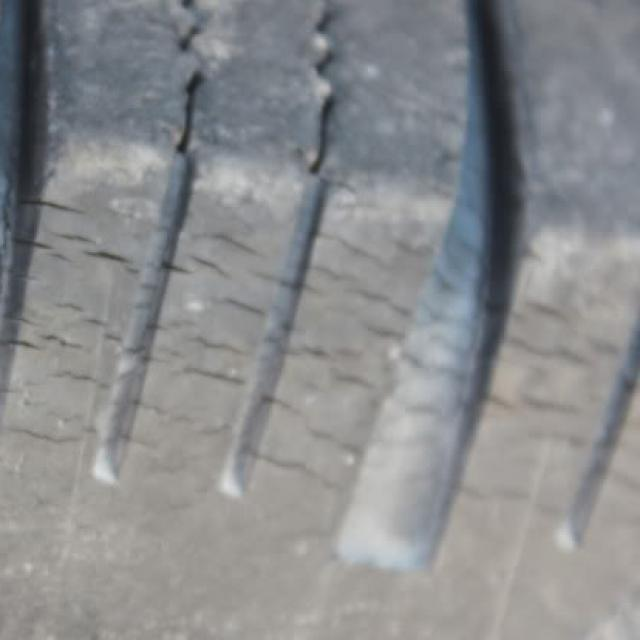Cracks: (0, 189, 640, 453)
